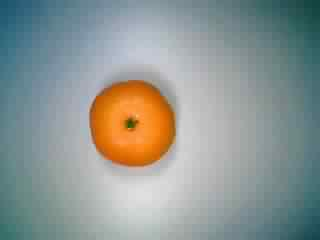orange: (80, 74, 181, 169)
